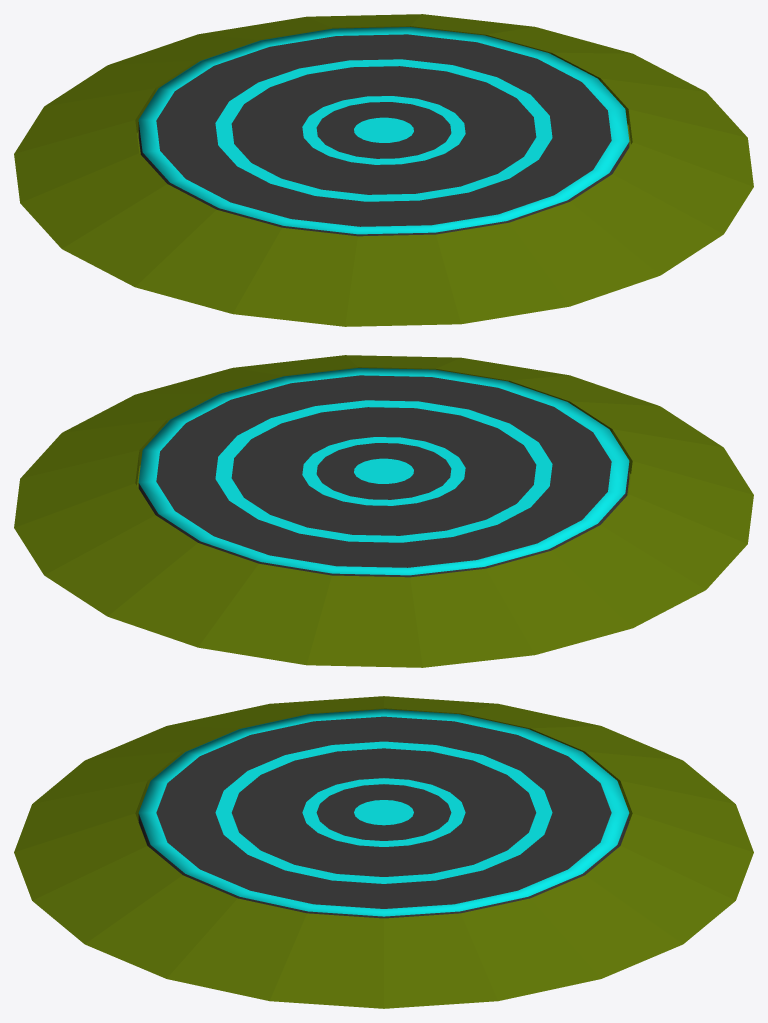
The model's file is Elevator.fbx.
The picture shows the model from 3 angles, top to bottom: view 1: azimuth 30°, elevation 25°; view 2: azimuth 150°, elevation 25°; view 3: azimuth 270°, elevation 25°; orthographic projection.
Parts seen in each view (by area): view 1: ElevatorFrame1, ElevatorPlatform; view 2: ElevatorFrame1, ElevatorPlatform; view 3: ElevatorFrame1, ElevatorPlatform.
Part boxes in pixels (x1,y1,x2,y2): ElevatorFrame1: [14, 14, 753, 326]; ElevatorPlatform: [138, 27, 629, 236]; ElevatorFrame1: [14, 355, 753, 667]; ElevatorPlatform: [138, 368, 629, 577]; ElevatorFrame1: [14, 696, 753, 1008]; ElevatorPlatform: [138, 709, 629, 918].
Size of the model in its own units: 1.37 by 0.0814 by 1.37.
